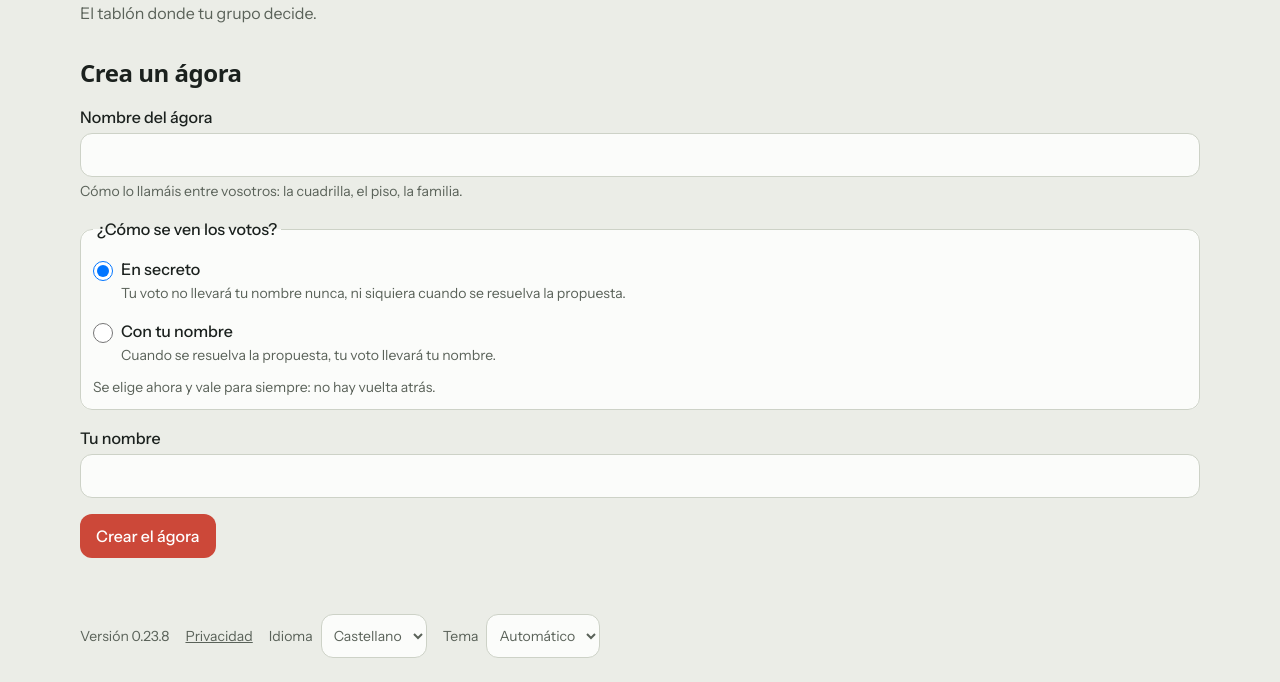
it: el pie: idioma y tema alcanzables › cambiar el idioma actualiza <html lang> y se traduce la interfaz
(page scrolled)
Select "English" in the dropdown labelled "Idioma": (374, 636) [321, 614, 427, 658]
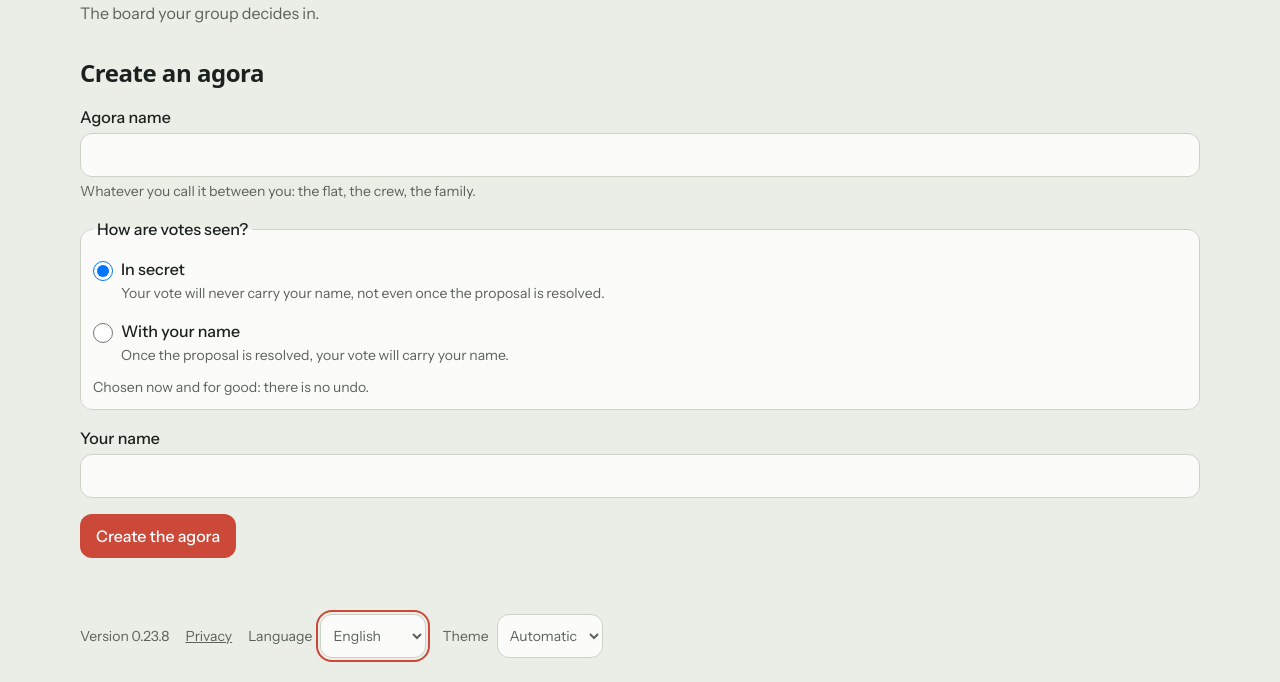
Result: the button "Create the agora" is shown at [80, 514, 236, 558]
